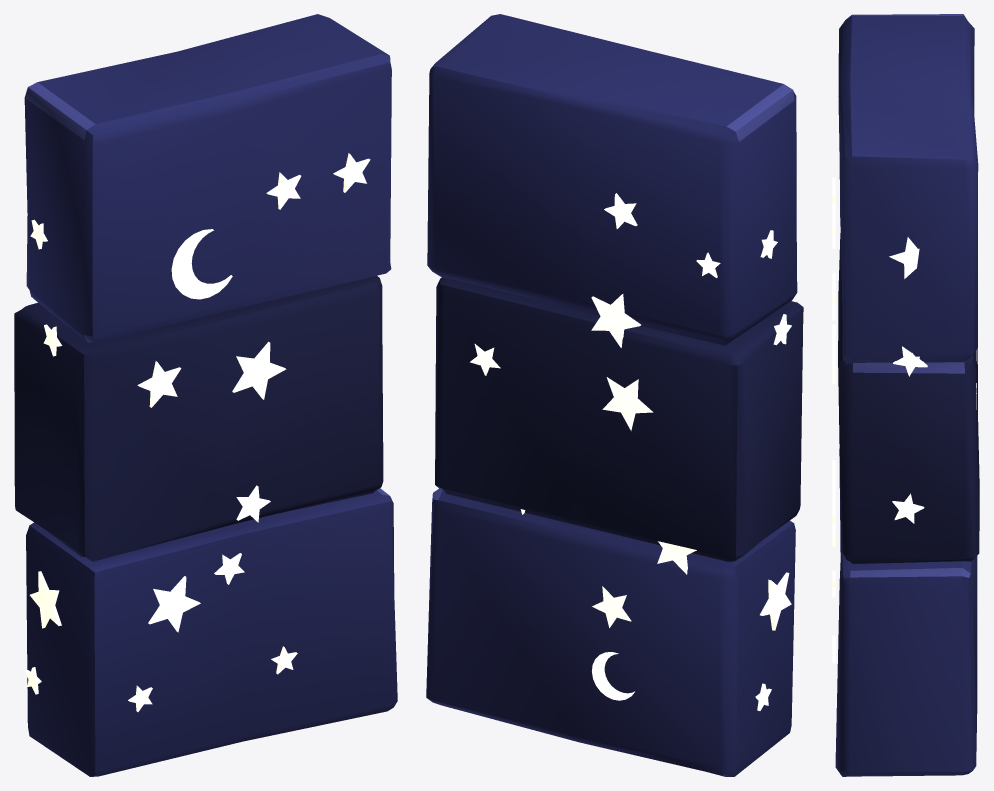
The model's file is den_night_chimney.glb.
The picture shows the model from 3 angles, left to right: view 1: azimuth 30°, elevation 25°; view 2: azimuth 150°, elevation 25°; view 3: azimuth 270°, elevation 25°; orthographic projection. The views are drawn at different scales.
Parts seen in each view (by area): view 1: den_night_chimney; view 2: den_night_chimney; view 3: den_night_chimney.
Boxes of the visible parts, left/top/right/bottom form: den_night_chimney: left=14, top=14, right=397, bottom=776; den_night_chimney: left=426, top=14, right=803, bottom=776; den_night_chimney: left=832, top=14, right=979, bottom=776.
Bounding box in the file's own units: 6.17 × 12 × 2.55.
